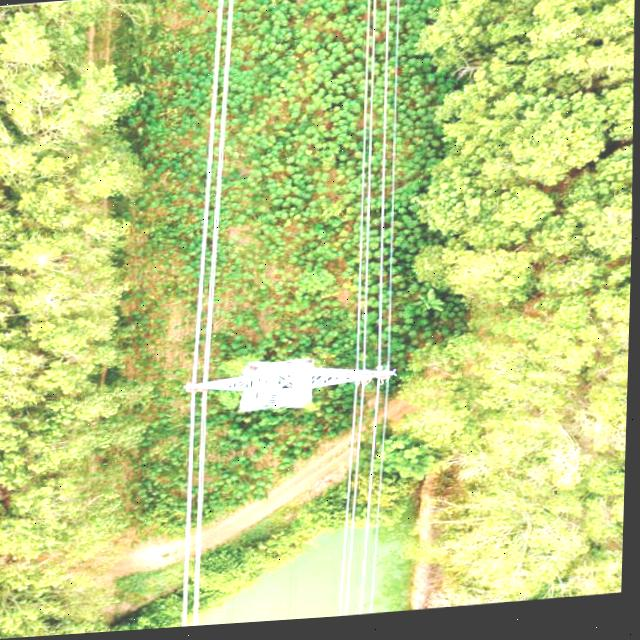poles: (181, 362, 396, 414)
wires: (193, 0, 227, 385), (358, 0, 393, 365), (338, 391, 385, 618), (181, 395, 206, 626)
